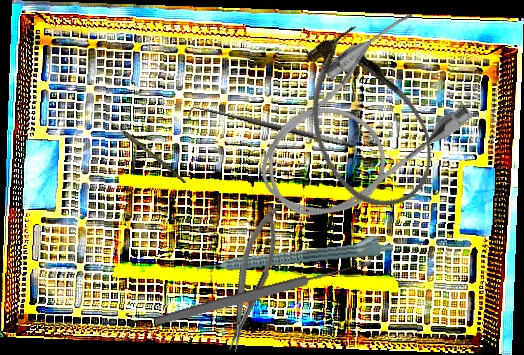Cannula: (230, 3, 486, 247), (278, 14, 452, 226)
Handpiece: (195, 231, 394, 276)
Hook Surgical: (184, 99, 356, 162)
Needle Holder: (213, 202, 290, 355)
Surgical Spoon: (153, 257, 373, 328), (99, 113, 189, 184)
